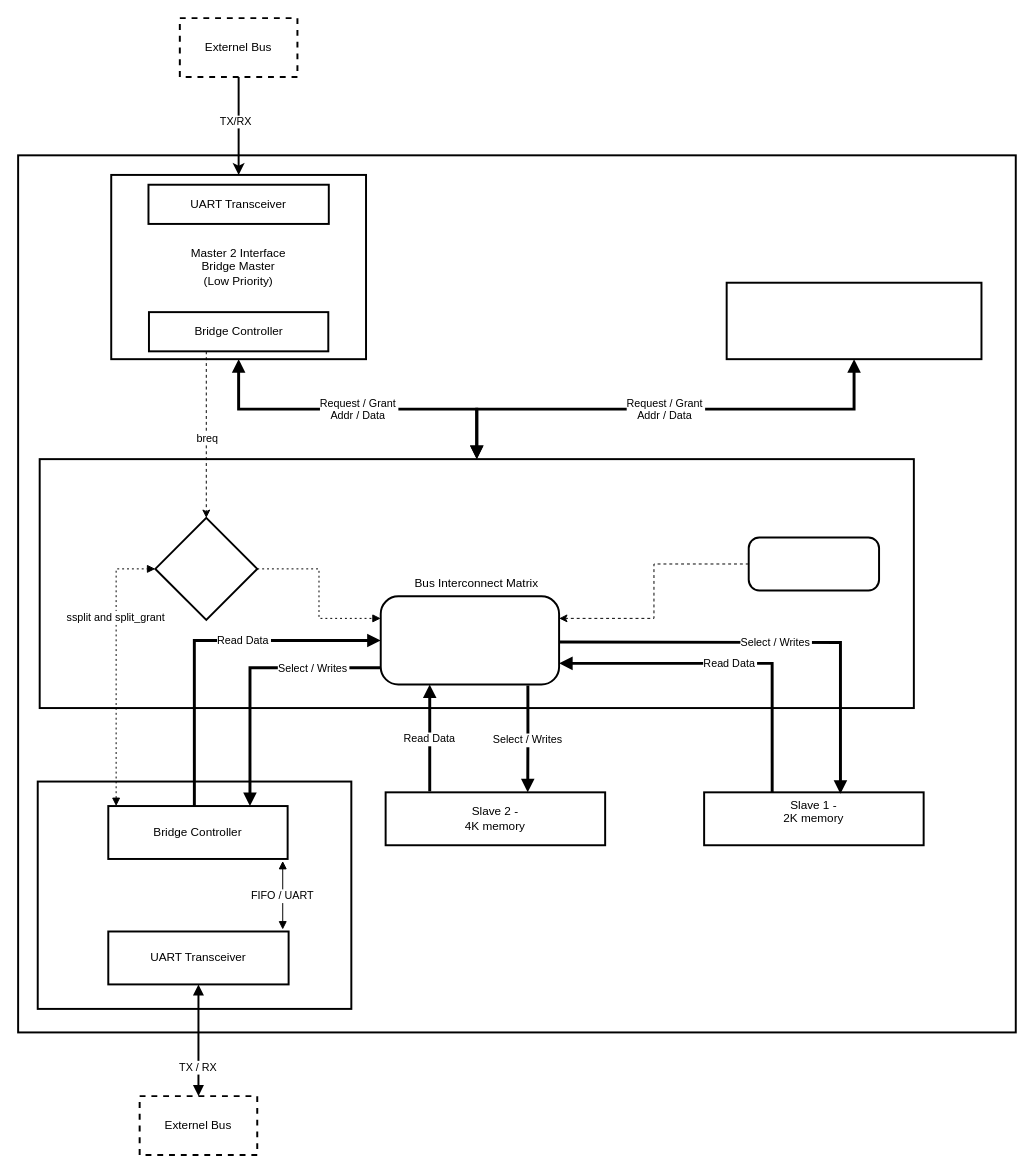
The diagram is 1033 pixels wide and 1172 high, and some of its shapes have lost their labels. Each missing label, with the box of its shape:
Addr Decoder: (747, 536, 880, 591)
Arbiter: (154, 516, 258, 620)
Master 1 Interface (High Priority): (725, 281, 982, 360)
Mux / Routing: (379, 595, 560, 685)
Slave 3 (Bridge) Split supported: (36, 780, 352, 1009)
